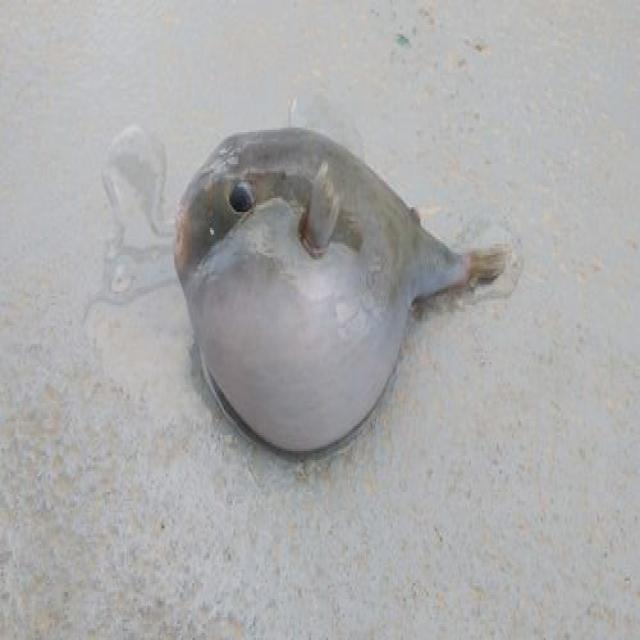Balik: (175, 128, 504, 453)
